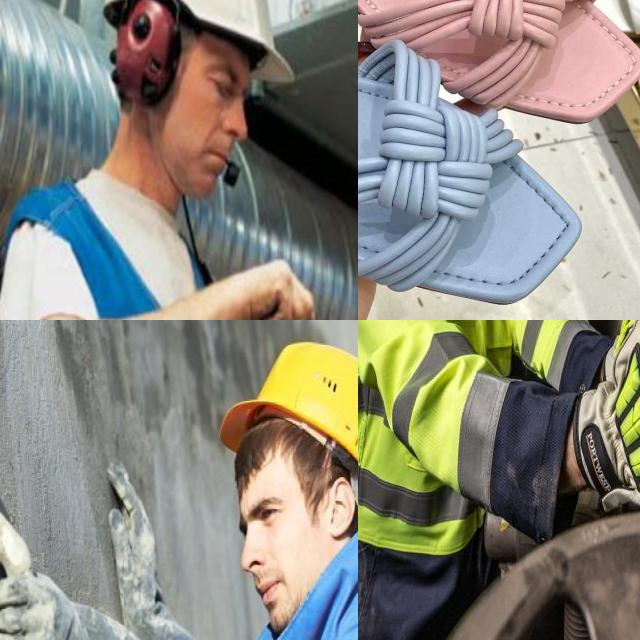Ear-protection: (117, 0, 173, 109)
No_Ear-Protection: (217, 340, 358, 640)
No_Glasses: (193, 53, 257, 126)
Sandals: (358, 0, 597, 320), (358, 0, 640, 168)
hand_glove: (573, 320, 640, 507)
head_helmet: (93, 0, 295, 91)
person: (358, 320, 640, 640)
